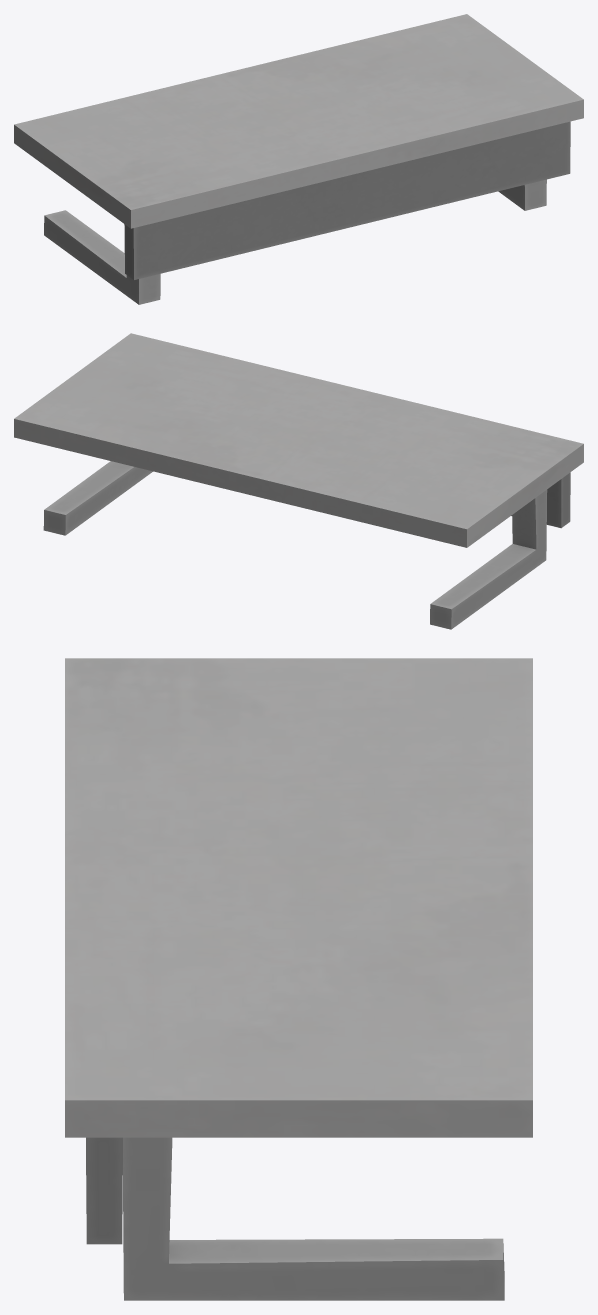
File: Pfb_Table__5.fbx
3 renders of one model, top to bottom at view 1: azimuth 30°, elevation 25°; view 2: azimuth 150°, elevation 25°; view 3: azimuth 270°, elevation 25°, orthographic. The views are drawn at different scales.
Parts seen in each view (by area): view 1: Mat_Table_01_White 1; view 2: Mat_Table_01_White 1; view 3: Mat_Table_01_White 1.
Boxes of the visible parts, bbox=[...] form: Mat_Table_01_White 1: bbox=[14, 14, 583, 304]; Mat_Table_01_White 1: bbox=[14, 333, 583, 629]; Mat_Table_01_White 1: bbox=[65, 658, 532, 1300].
Bounding box in the file's own units: 2.78 × 0.6523 × 1.24.
1 material, 1 textured.
